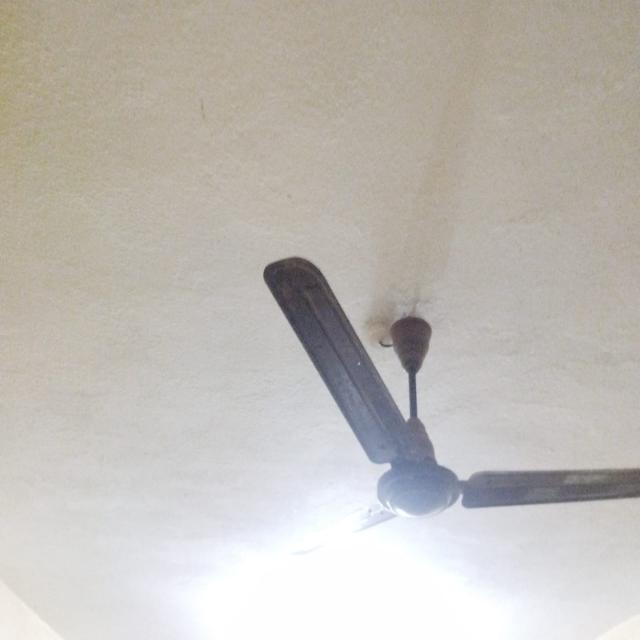fan_off: (266, 258, 640, 580)
